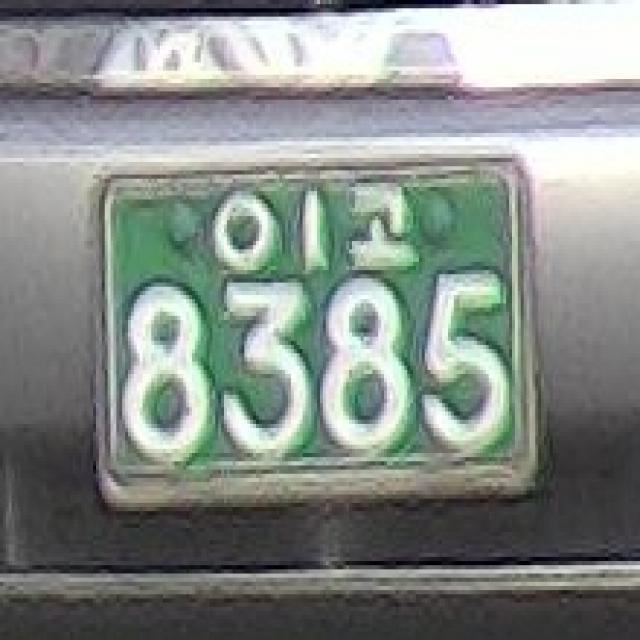0: (208, 188, 282, 276)
1: (294, 182, 338, 276)
3: (221, 277, 316, 462)
5: (418, 276, 512, 454)
8: (122, 278, 216, 474), (321, 276, 416, 461)
go: (347, 165, 427, 272)
license_plate: (80, 147, 548, 502)
